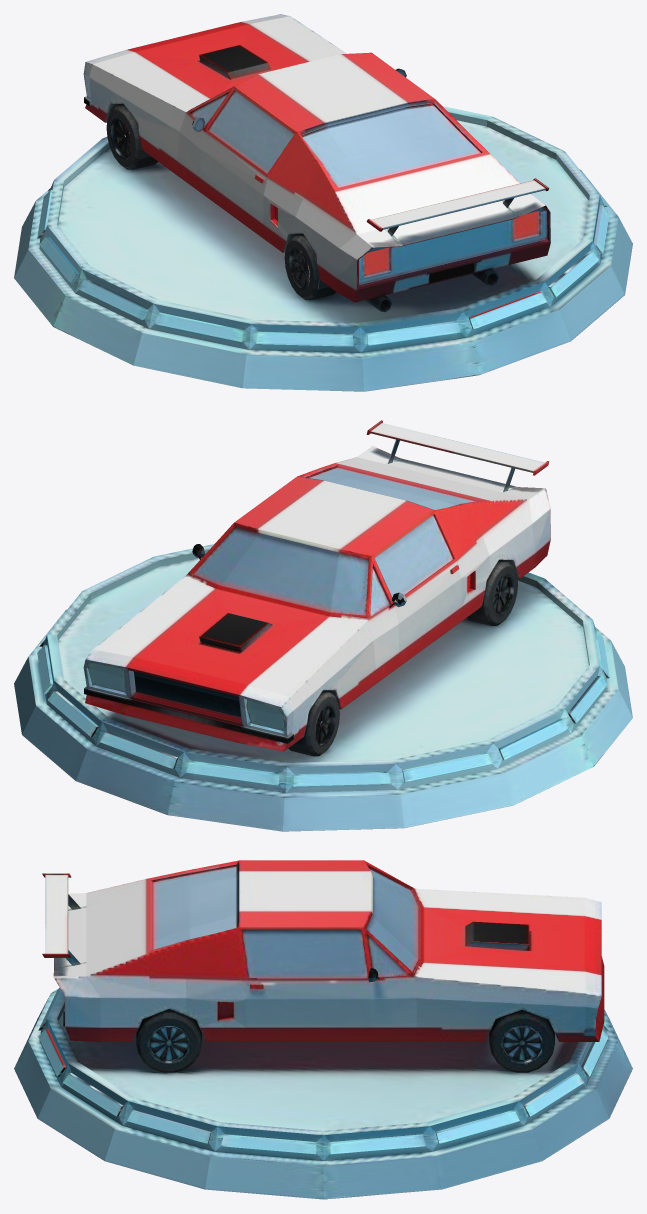
The model's file is car_fbx.fbx.
The picture shows the model from 3 angles, top to bottom: view 1: azimuth 30°, elevation 25°; view 2: azimuth 150°, elevation 25°; view 3: azimuth 270°, elevation 25°; orthographic projection.
Parts seen in each view (by area): view 1: Cube.002; view 2: Cube.002; view 3: Cube.002.
Boxes of the visible parts, x1,y1,x2,y2 form: Cube.002: (14,14,632,391); Cube.002: (14,420,632,831); Cube.002: (14,860,632,1199).
Size of the model in its own units: 526 by 167 by 526.
